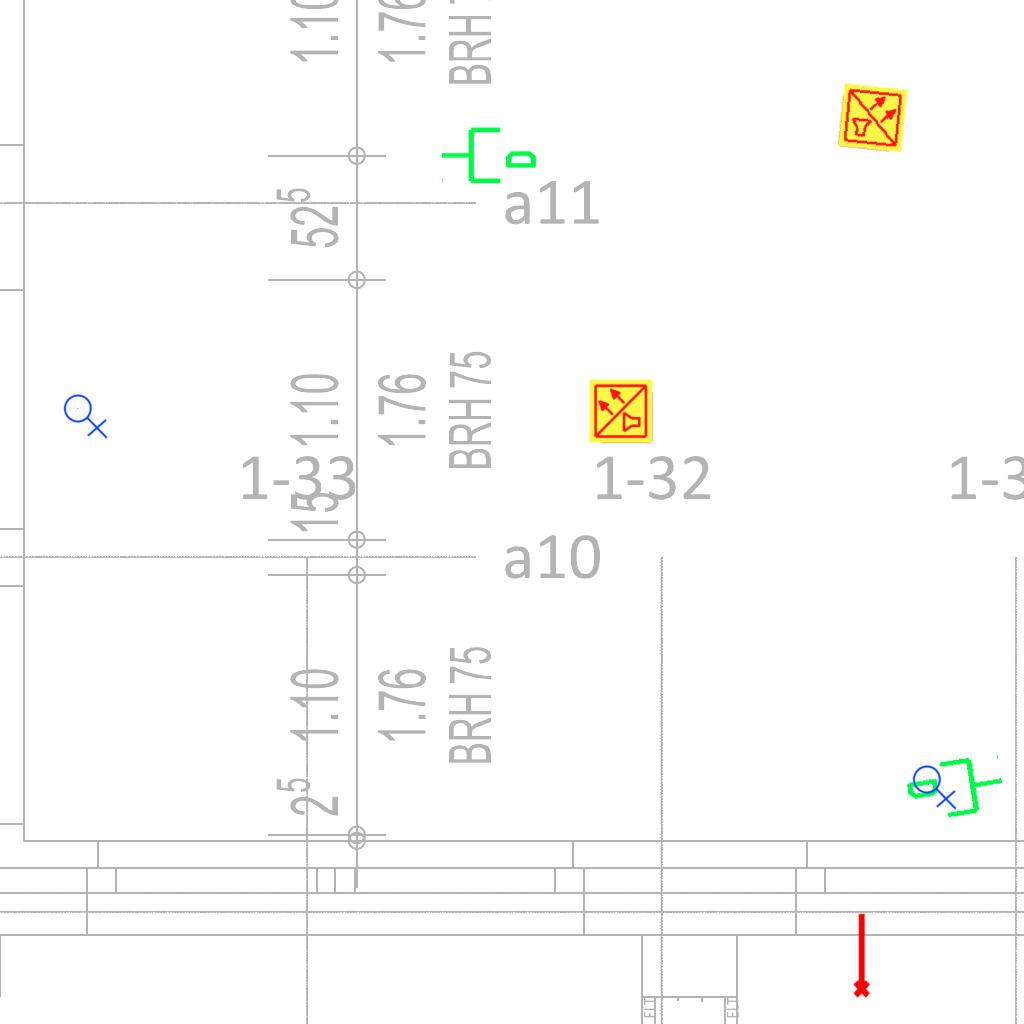ASR_Ansaugoeffnung: (849, 911, 872, 999)
Datenanschluss_einfach: (900, 748, 1011, 832), (439, 119, 539, 188)
Elektroanschluss_allgemein_230V_Geraeteanschlussdose_230V: (63, 390, 110, 439), (912, 761, 959, 810)
OKW_Multisensormelder_(Kombination_optischer_Rauch-Kahlenmonoxid_Waerme-Melder): (836, 81, 910, 155), (588, 378, 654, 444)
